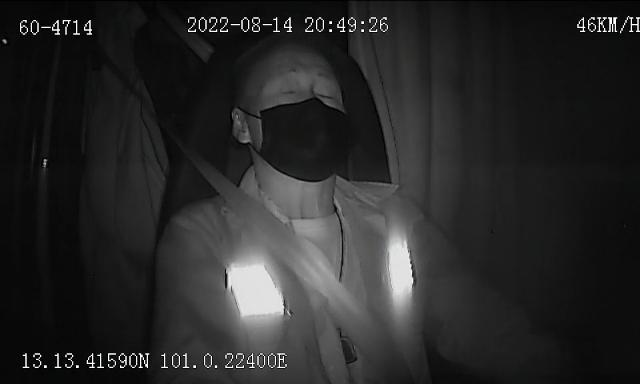Seatbelt: (188, 152, 390, 376)
